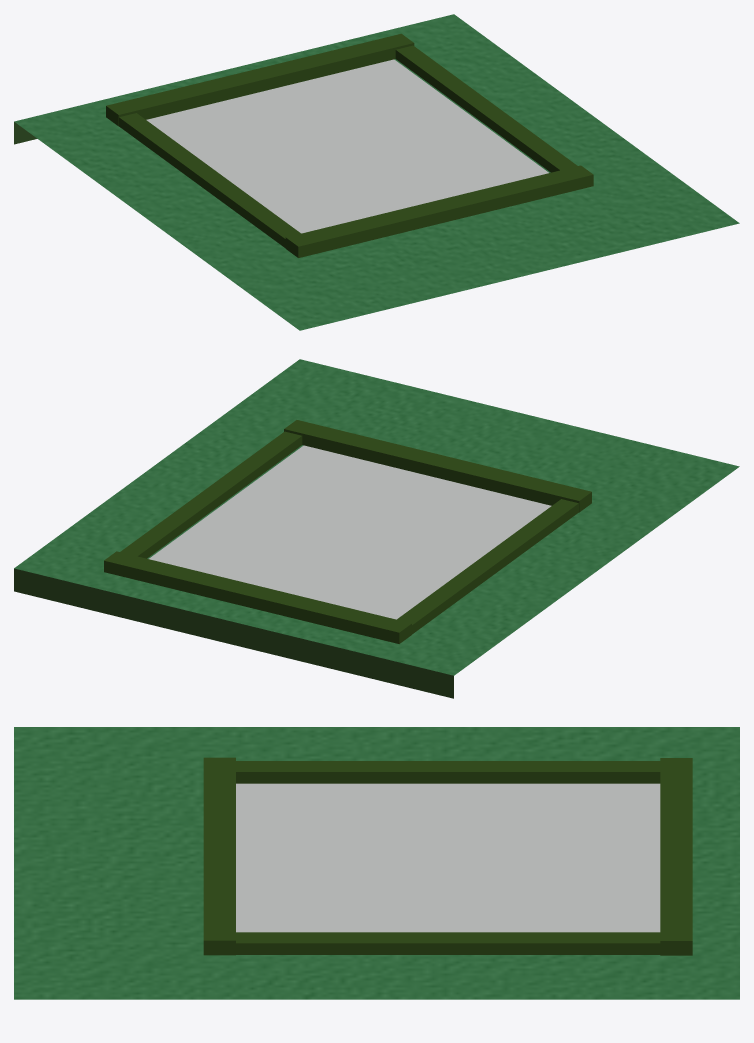
File: RealRoomInsideWindowWall_LoungeRoom.fbx
The picture shows the model from 3 angles, top to bottom: view 1: azimuth 30°, elevation 25°; view 2: azimuth 150°, elevation 25°; view 3: azimuth 270°, elevation 25°; orthographic projection. The views are drawn at different scales.
Visible parts, largest first — view 1: Wall_Window.086; view 2: Wall_Window.086; view 3: Wall_Window.086.
Part boxes in pixels (<box>): Wall_Window.086: <box>14,14,739,330</box>; Wall_Window.086: <box>14,359,739,698</box>; Wall_Window.086: <box>14,727,739,999</box>.
Bounding box in the file's own units: 2 × 0.1502 × 2.25.
